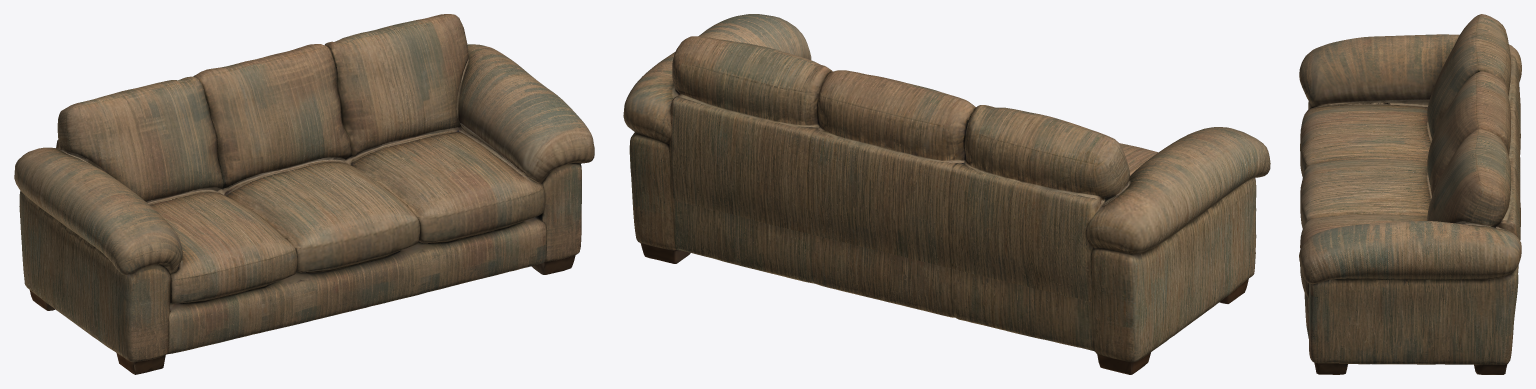
Rendered from VAR_LivingRoom_Sofa.fbx.
The picture shows the model from 3 angles, left to right: view 1: azimuth 30°, elevation 25°; view 2: azimuth 150°, elevation 25°; view 3: azimuth 270°, elevation 25°; orthographic projection. The views are drawn at different scales.
Visible parts, largest first — view 1: texture_mapping; view 2: texture_mapping; view 3: texture_mapping.
Boxes of the visible parts, box(x1,y1,x2,y2) form: texture_mapping: box(14, 14, 594, 374); texture_mapping: box(623, 14, 1270, 374); texture_mapping: box(1299, 14, 1521, 374).
Size of the model in its own units: 0.999 by 0.4374 by 0.3945.
Materials: 1 (1 with a texture image).
